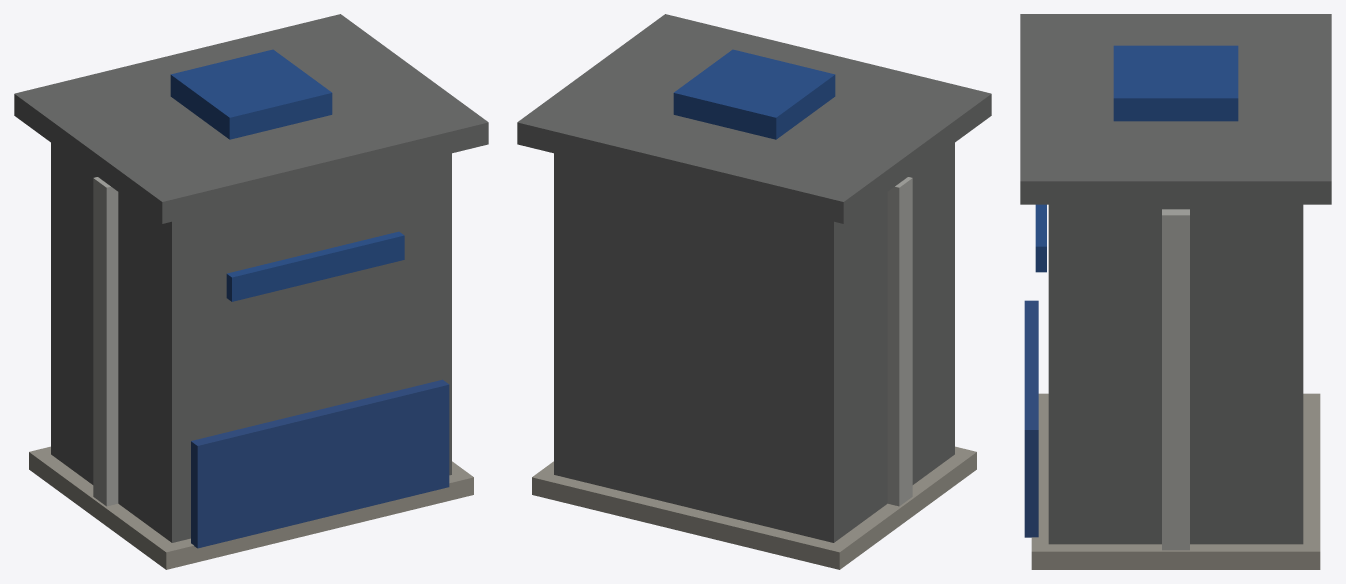
Rendered from bld_commercial_a08_lod2.glb.
3 renders of one model, left to right at view 1: azimuth 30°, elevation 25°; view 2: azimuth 150°, elevation 25°; view 3: azimuth 270°, elevation 25°, orthographic. The views are drawn at different scales.
Visible parts, largest first — view 1: body; view 2: body; view 3: body.
Part boxes in pixels (x1,y1,x2,y2): body: [14, 14, 488, 569]; body: [517, 14, 991, 569]; body: [1020, 14, 1331, 569].
Bounding box in the file's own units: 7 × 8.16 × 5.5.
